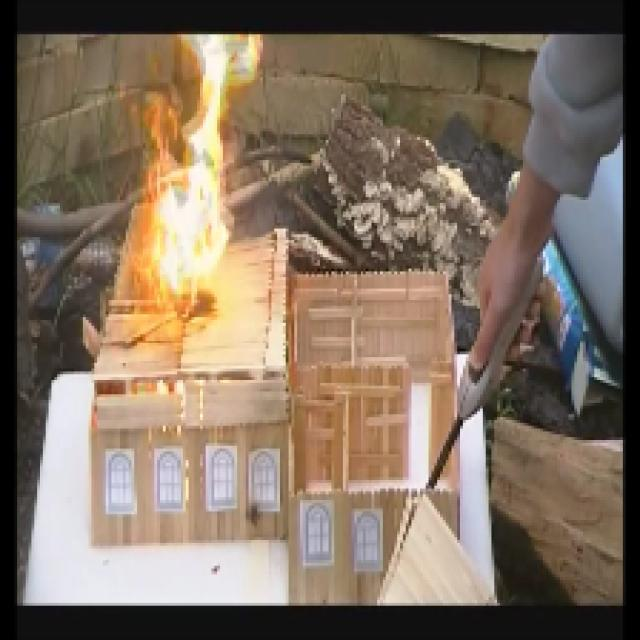Fire: (116, 80, 194, 338), (156, 145, 204, 292)
